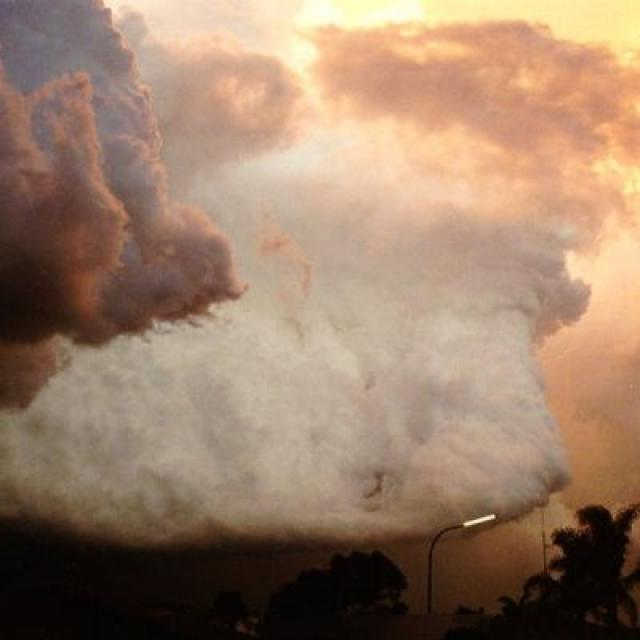Cb: (1, 52, 640, 471)
